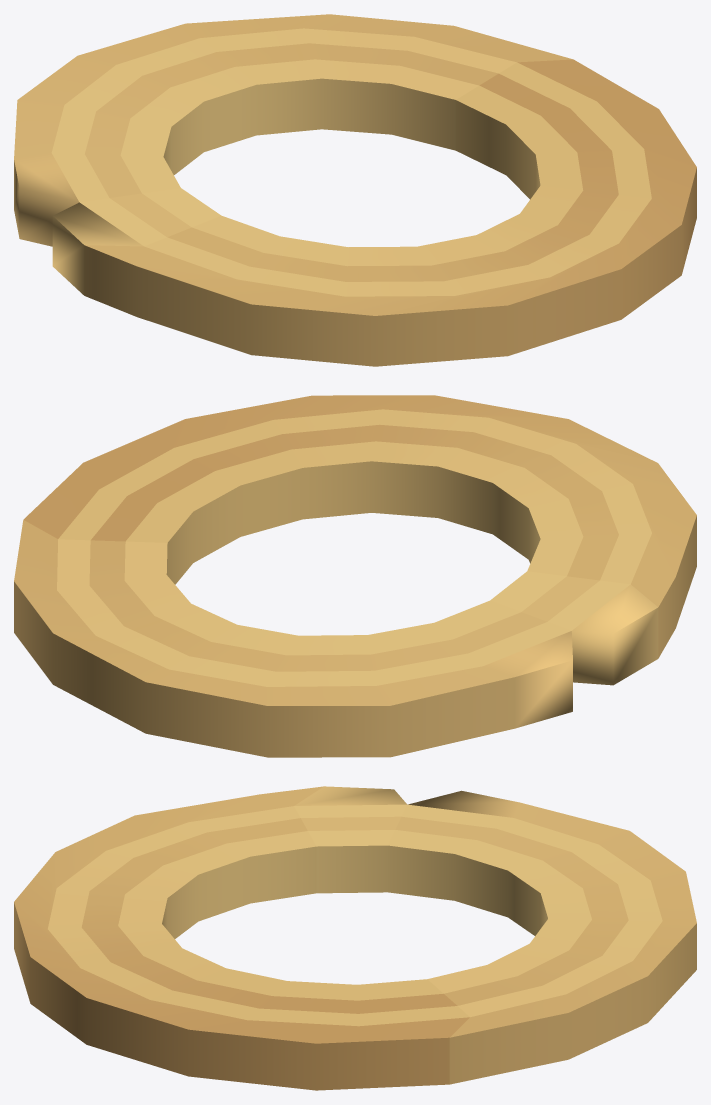
The model's file is Onion_Slice_2.glb.
The picture shows the model from 3 angles, top to bottom: view 1: azimuth 30°, elevation 25°; view 2: azimuth 150°, elevation 25°; view 3: azimuth 270°, elevation 25°; orthographic projection. The views are drawn at different scales.
Parts seen in each view (by area): view 1: Onion_Slice_2; view 2: Onion_Slice_2; view 3: Onion_Slice_2.
Boxes of the visible parts, bbox=[...] form: Onion_Slice_2: bbox=[14, 14, 696, 366]; Onion_Slice_2: bbox=[14, 395, 696, 757]; Onion_Slice_2: bbox=[14, 786, 696, 1090].
Bounding box in the file's own units: 0.0543 × 0.00461 × 0.0609.
1 material, 1 textured.
